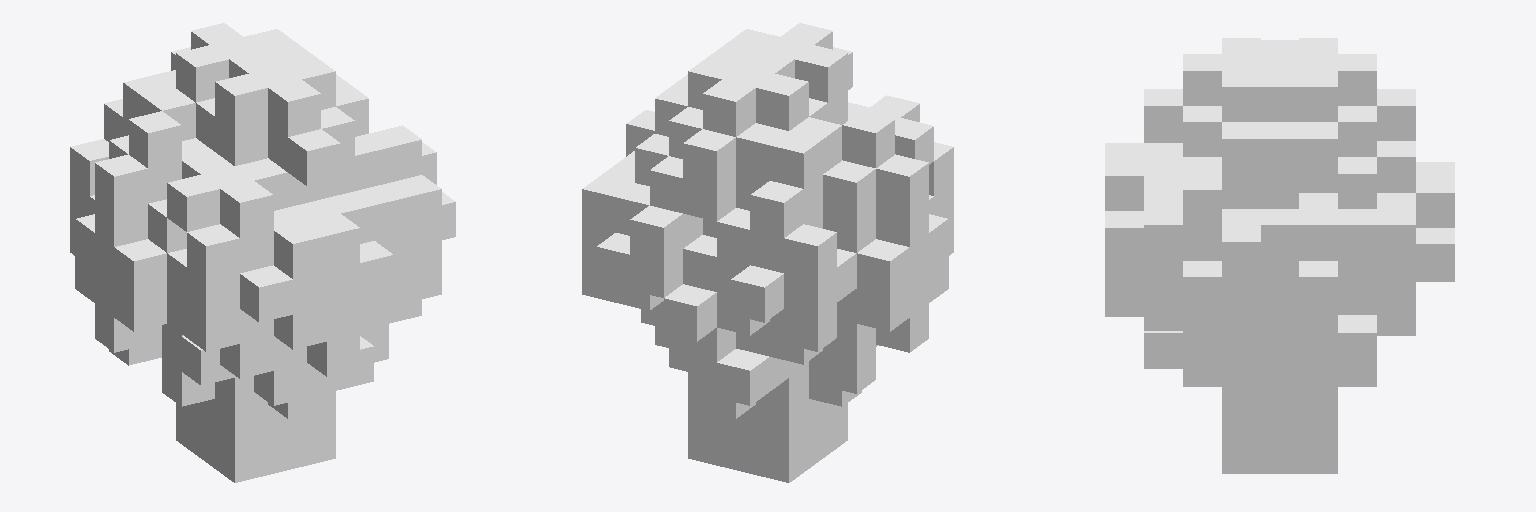
Rendered from wheat1.obj.
3 views of the same model, side by side, from view 1: azimuth 30°, elevation 25°; view 2: azimuth 150°, elevation 25°; view 3: azimuth 270°, elevation 25° (orthographic).
Parts seen in each view (by area): view 1: object 1; view 2: object 1; view 3: object 1.
Boxes of the visible parts, x1=… form: object 1: x1=70, y1=23, x2=455, y2=482; object 1: x1=582, y1=23, x2=953, y2=482; object 1: x1=1105, y1=38, x2=1454, y2=473.
Size of the model in its own units: 0.9 by 1.1 by 0.9.